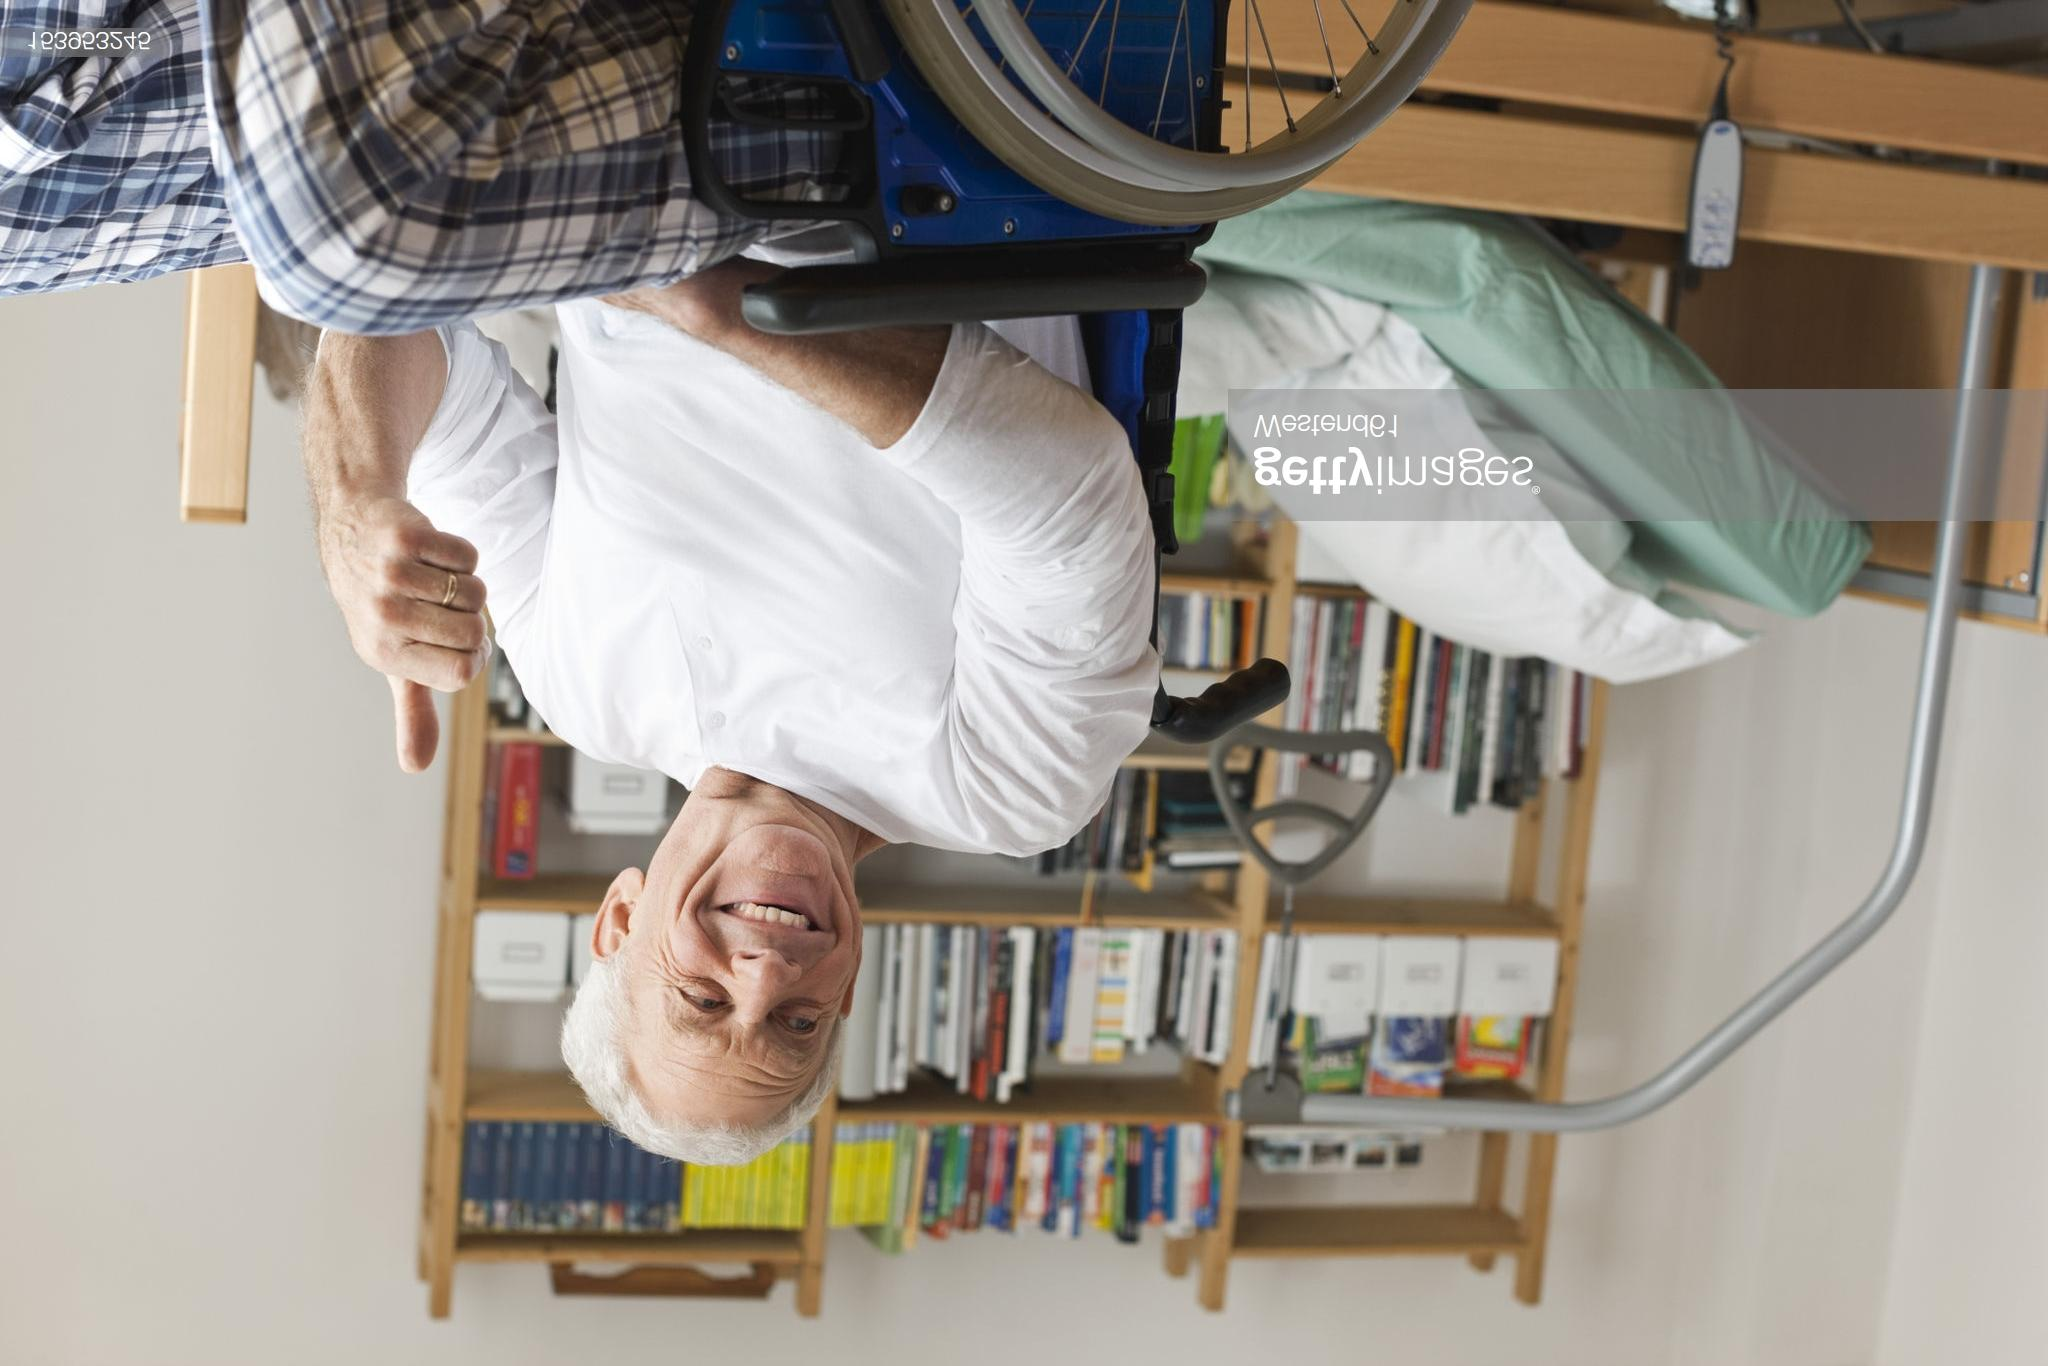thumbsdown: (358, 526, 491, 774)
